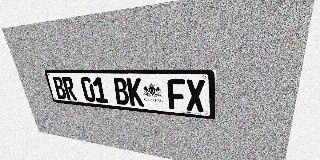0: (80, 77, 96, 102)
1: (91, 77, 108, 103)
B: (112, 78, 130, 105), (52, 76, 67, 100)
F: (167, 79, 186, 110)
K: (126, 78, 144, 107)
R: (61, 77, 77, 101)
X: (185, 79, 205, 112)
